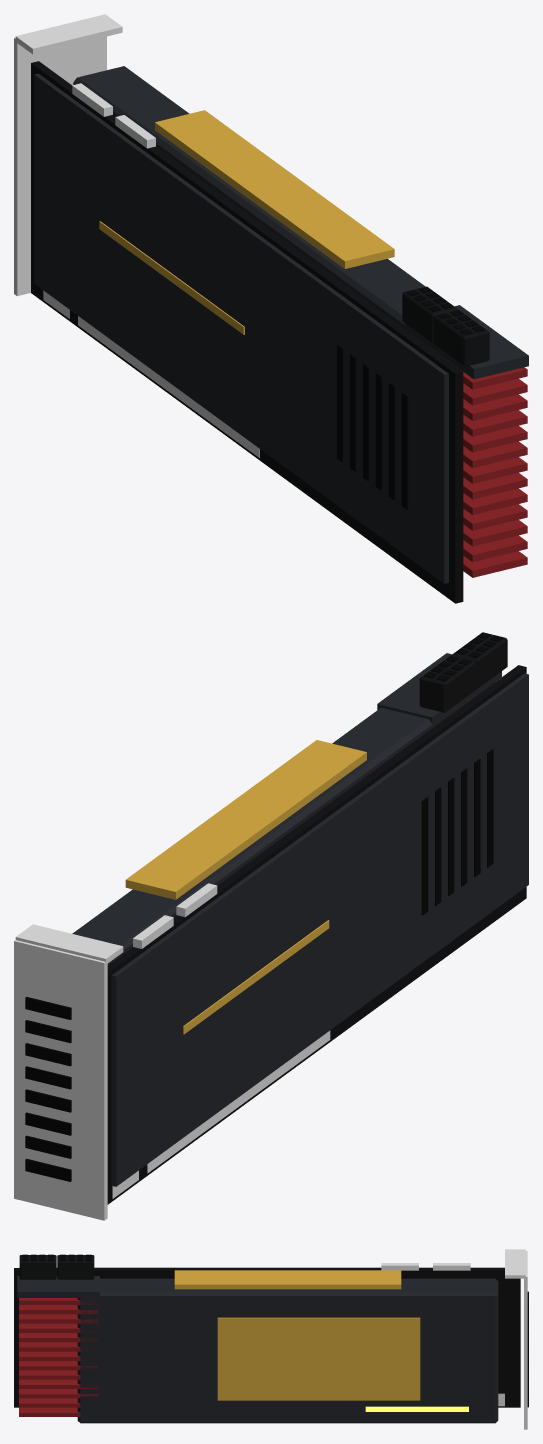
File: hw_gpu_a100.glb
3 views of the same model, one above another, from view 1: azimuth 30°, elevation 25°; view 2: azimuth 150°, elevation 25°; view 3: azimuth 270°, elevation 25° (orthographic). The views are drawn at different scales.
Visible parts, largest first — view 1: Body; view 2: Body; view 3: Body.
Boxes of the visible parts, bbox=[...] form: Body: bbox=[14, 14, 528, 603]; Body: bbox=[14, 632, 528, 1220]; Body: bbox=[14, 1249, 528, 1429].
Size of the model in its own units: 0.0361 by 0.1006 by 0.2994.
